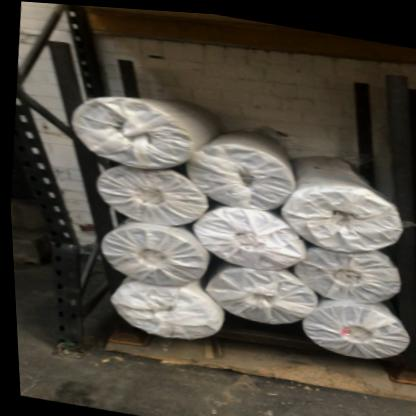vertical_damage: (17, 179, 90, 284)
